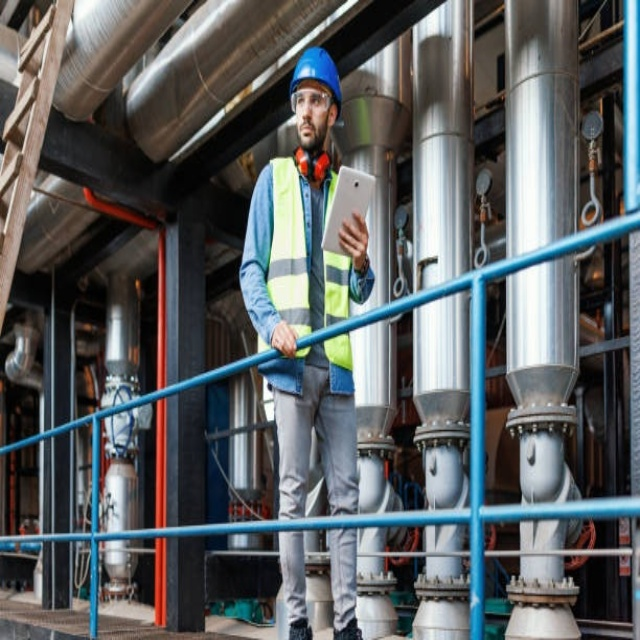Gafas: (293, 92, 334, 116)
Sin_guantes: (337, 209, 370, 262), (270, 319, 302, 358)
Sin_mascara: (296, 121, 315, 141)
